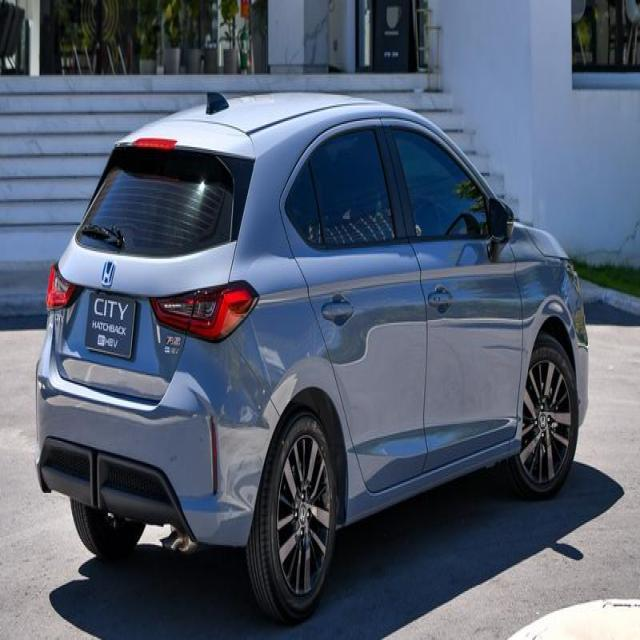Hatchback: (34, 93, 590, 626)
